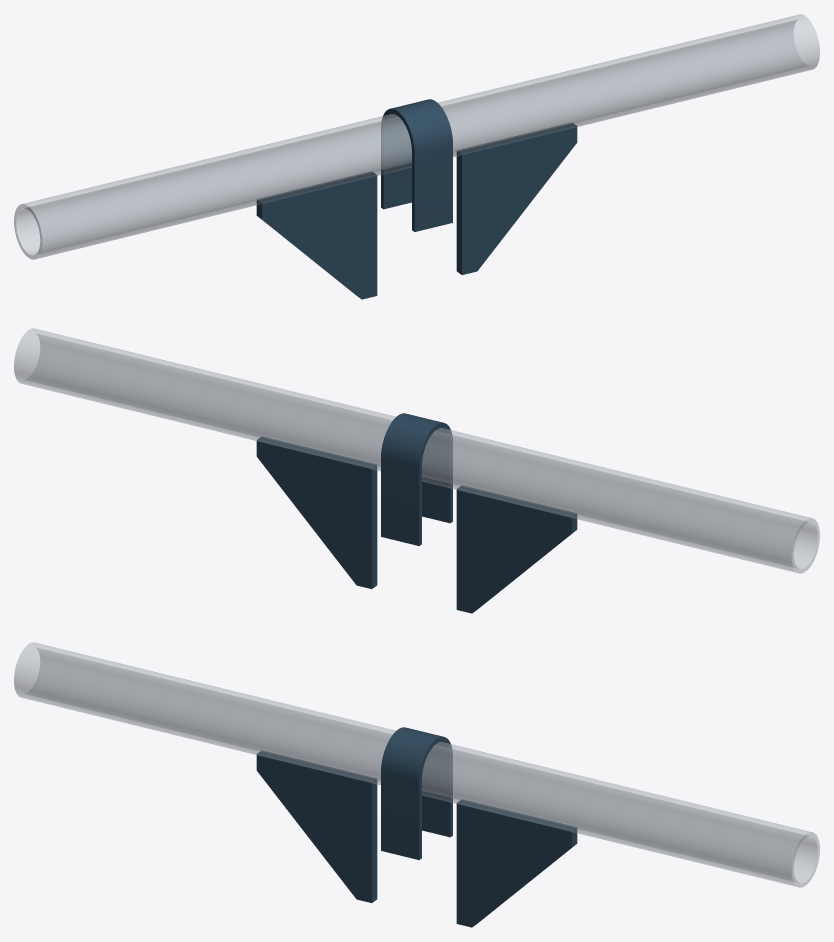
The model's file is TS-659.00.00-opora-dn32.glb.
The picture shows the model from 3 angles, top to bottom: view 1: azimuth 30°, elevation 25°; view 2: azimuth 150°, elevation 25°; view 3: azimuth 330°, elevation 25°; orthographic projection.
Visible parts, largest first — view 1: truba, upor_1, upor_2, homut; view 2: truba, upor_1, upor_2, homut; view 3: truba, upor_2, upor_1, homut.
Part boxes in pixels (bbox=[...]): truba: bbox=[14, 14, 819, 259]; upor_1: bbox=[456, 123, 577, 274]; upor_2: bbox=[256, 171, 377, 299]; homut: bbox=[381, 99, 452, 231]; truba: bbox=[14, 328, 819, 573]; upor_1: bbox=[256, 437, 377, 588]; upor_2: bbox=[456, 485, 577, 613]; homut: bbox=[381, 413, 452, 545]; truba: bbox=[14, 642, 819, 887]; upor_2: bbox=[256, 751, 377, 902]; upor_1: bbox=[456, 799, 577, 927]; homut: bbox=[381, 727, 452, 859].
Size of the model in its own units: 505 by 110 by 38.
